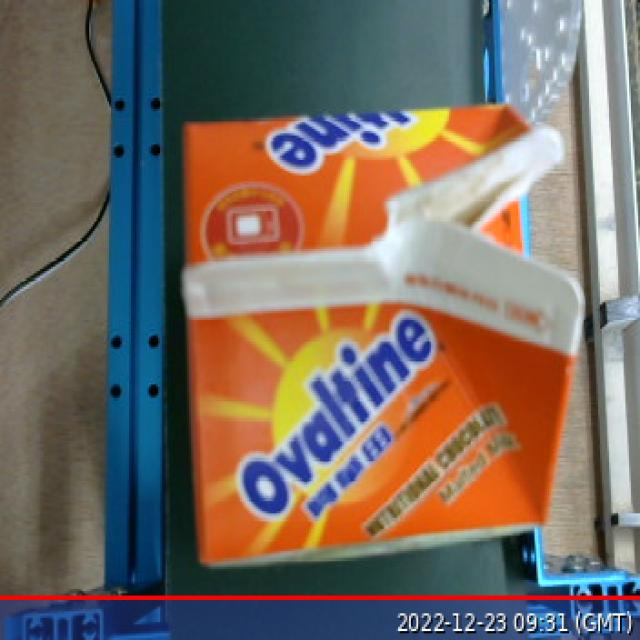non_white_jug: (174, 79, 609, 582)
